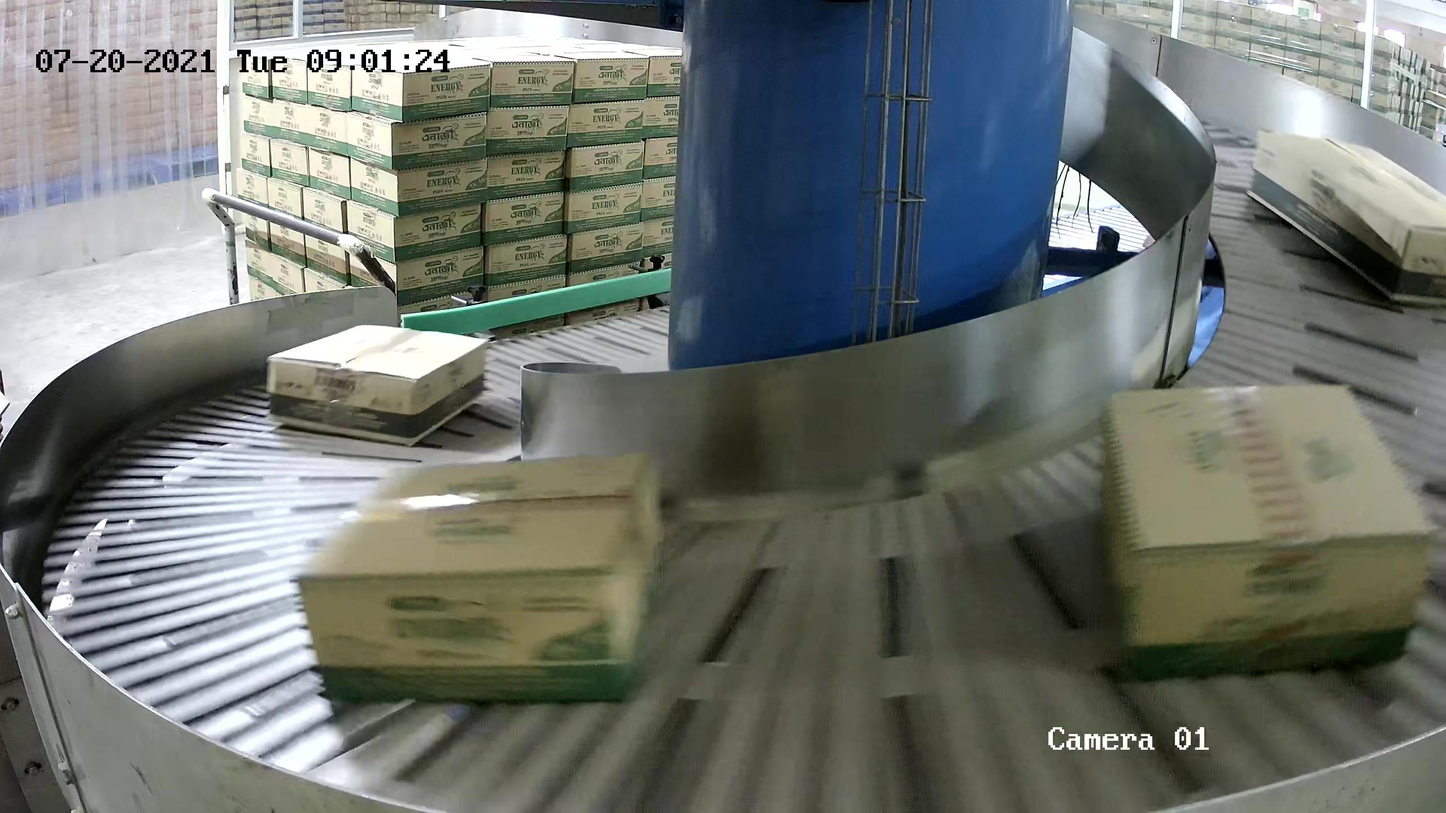Box: (293, 447, 677, 715), (1096, 378, 1437, 678), (1245, 127, 1446, 307), (266, 322, 492, 448)
